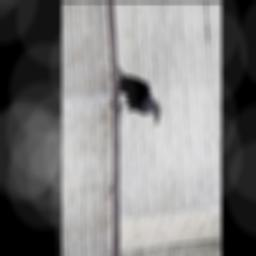Crow: (108, 59, 162, 131)
